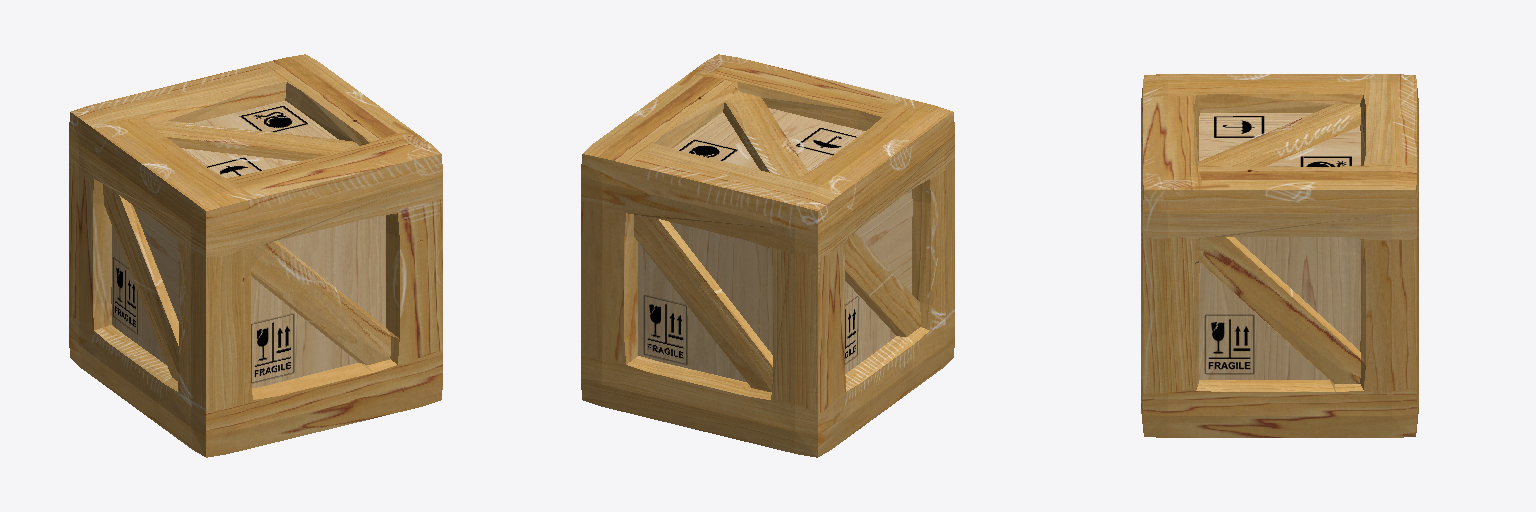
3 views of the same model, side by side, from view 1: azimuth 30°, elevation 25°; view 2: azimuth 150°, elevation 25°; view 3: azimuth 270°, elevation 25° (orthographic).
Parts seen in each view (by area): view 1: _polySurface1; view 2: _polySurface1; view 3: _polySurface1.
Part boxes in pixels (left/top/right/bottom): _polySurface1: left=69, top=54, right=442, bottom=457; _polySurface1: left=581, top=54, right=954, bottom=457; _polySurface1: left=1141, top=74, right=1418, bottom=437.
Bounding box in the file's own units: 24.72 × 24.72 × 24.72.
Materials: 1 (1 with a texture image).